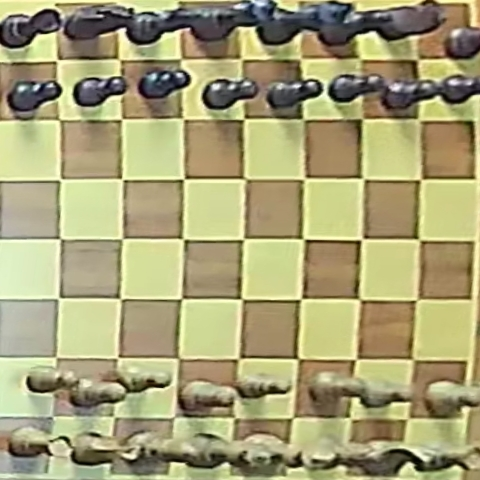black-bishop: (123, 3, 219, 45), (315, 8, 395, 45)
black-king: (256, 0, 355, 46)
black-knight: (374, 0, 447, 44), (65, 4, 139, 43)
black-pawn: (382, 78, 441, 109), (8, 80, 61, 114), (203, 78, 259, 110), (329, 73, 388, 103), (267, 79, 322, 109), (74, 76, 126, 107), (138, 69, 190, 99), (439, 74, 479, 105)
black-queen: (187, 0, 282, 46)
black-rook: (0, 8, 62, 49), (445, 26, 480, 59)
white-bishop: (125, 430, 204, 475), (307, 435, 375, 474)
white-king: (239, 431, 338, 473)
white-knight: (361, 440, 437, 477), (70, 432, 140, 467)
white-pawn: (307, 371, 365, 407), (424, 380, 480, 416), (180, 381, 238, 415), (110, 364, 172, 393), (358, 376, 413, 408), (69, 378, 127, 408), (235, 372, 292, 399), (27, 366, 78, 394)
white-queen: (184, 432, 277, 469)
white-rook: (10, 426, 74, 462), (416, 440, 479, 475)
